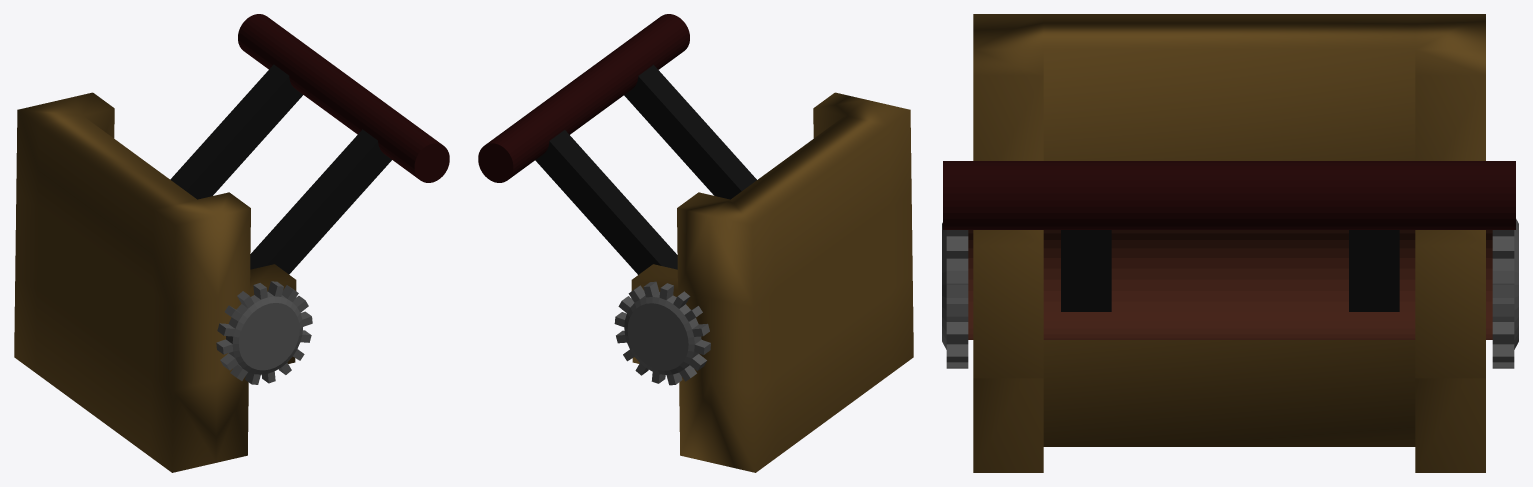
The model's file is lever.fbx.
3 views of the same model, side by side, from view 1: azimuth 30°, elevation 25°; view 2: azimuth 150°, elevation 25°; view 3: azimuth 270°, elevation 25° (orthographic). The views are drawn at different scales.
Visible parts, largest first — view 1: Cube.001, Cube.006; view 2: Cube.001, Cube.006; view 3: Cube.001, Cube.006.
Part boxes in pixels (<box>): Cube.001: <box>14,92,312,472</box>; Cube.006: <box>170,14,449,274</box>; Cube.001: <box>614,92,913,472</box>; Cube.006: <box>478,14,756,274</box>; Cube.001: <box>942,14,1518,472</box>; Cube.006: <box>943,161,1515,311</box>.
Bounding box in the file's own units: 228 × 224 × 261.
